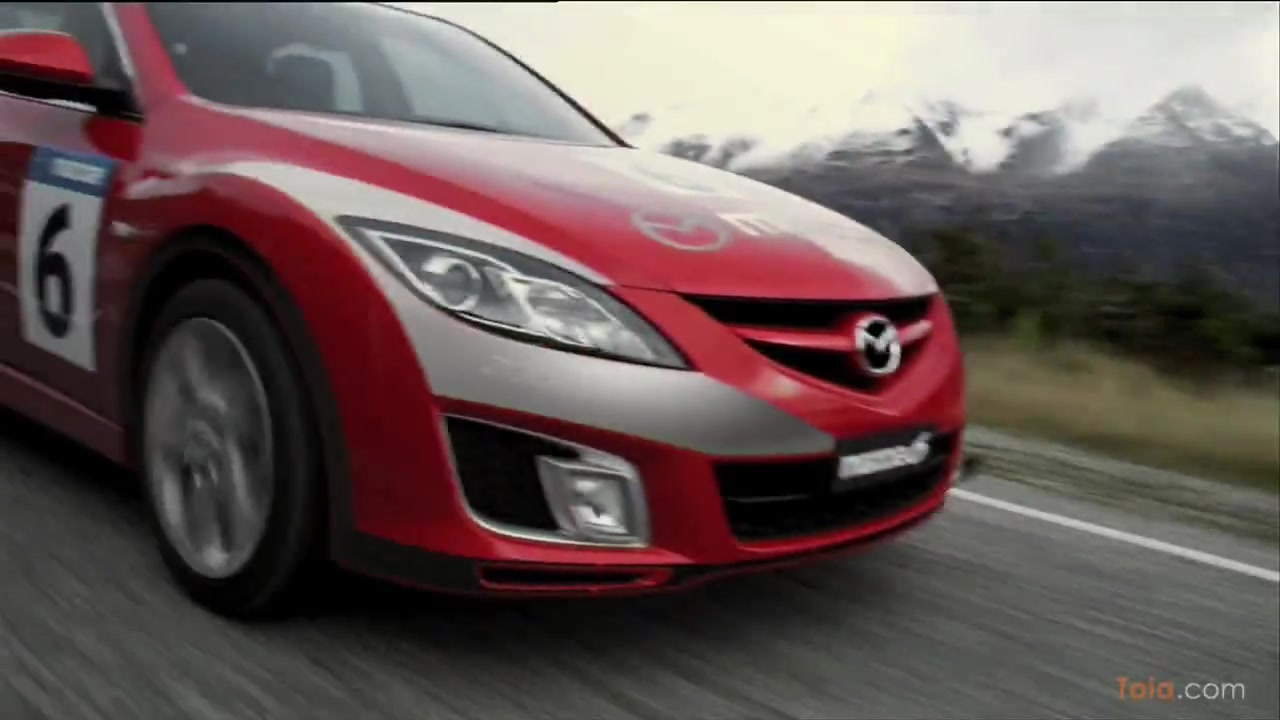car: (3, 1, 968, 633)
